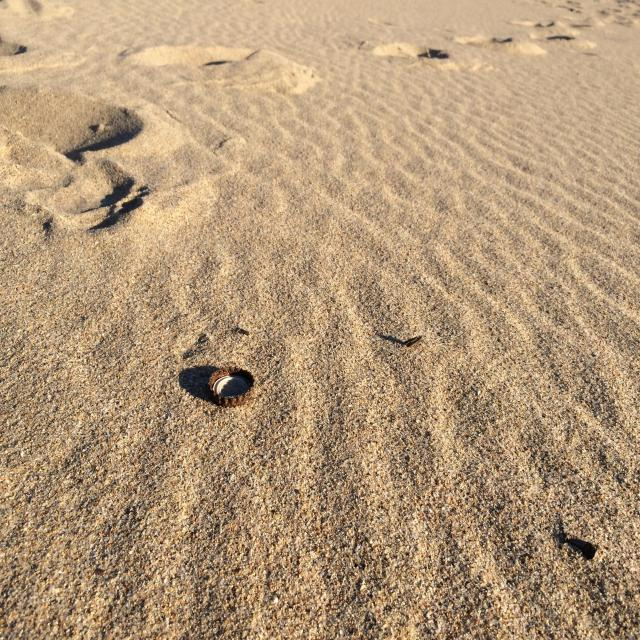Metal bottle cap: (208, 367, 255, 407)
